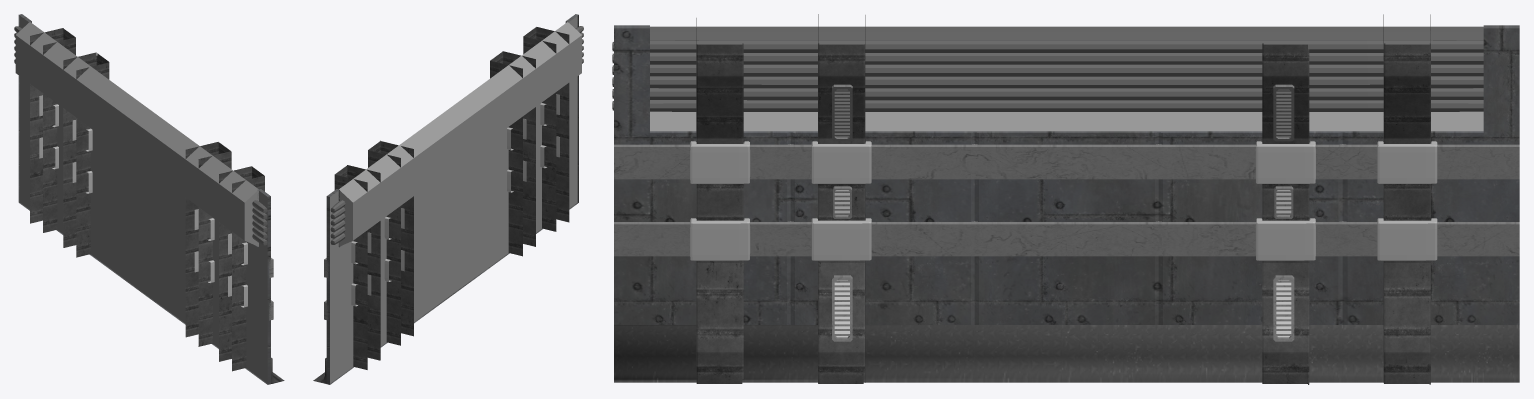
Rendered from Wall.fbx.
The picture shows the model from 3 angles, left to right: view 1: azimuth 30°, elevation 25°; view 2: azimuth 150°, elevation 25°; view 3: azimuth 270°, elevation 25°; orthographic projection. The views are drawn at different scales.
Visible parts, largest first — view 1: Wall; view 2: Wall; view 3: Wall, Lights.
Part boxes in pixels (x1,y1,x2,y2): Wall: (14,14,284,384); Wall: (313,14,583,384); Wall: (612,14,1519,384); Lights: (832,84,1294,341).
Size of the model in its own units: 283 by 1500 by 3606.
